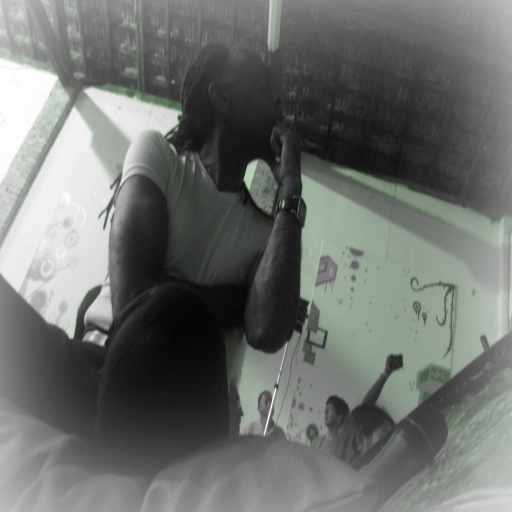hand: (270, 112, 303, 225), (245, 254, 260, 301), (384, 350, 403, 374)
